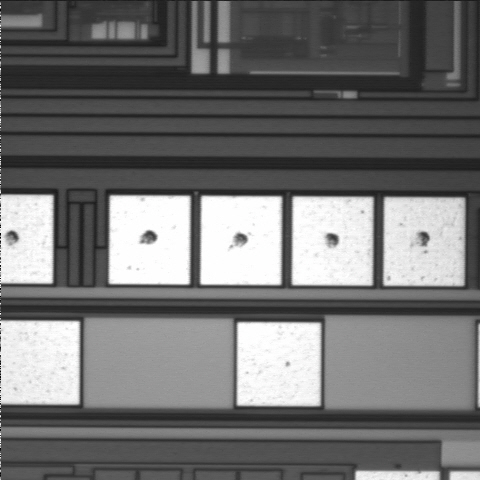pad: (200, 196, 282, 285), (109, 196, 190, 285), (292, 197, 373, 285), (384, 197, 464, 286), (237, 322, 321, 406)
